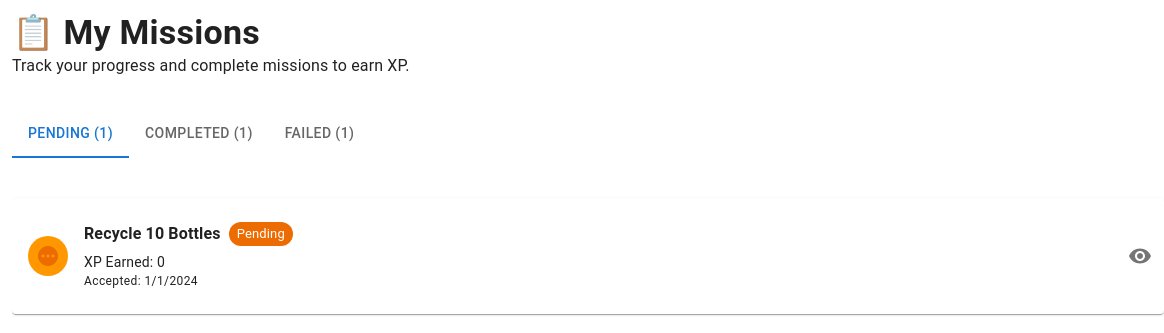
Test: MyMissions › switches to Completed tab
Expected: the heading "Recycle 10 Bottles" is shown, [84,220,221,248]
Click the tab "Completed (1)".
click(199, 134)  # box [129,110,269,158]
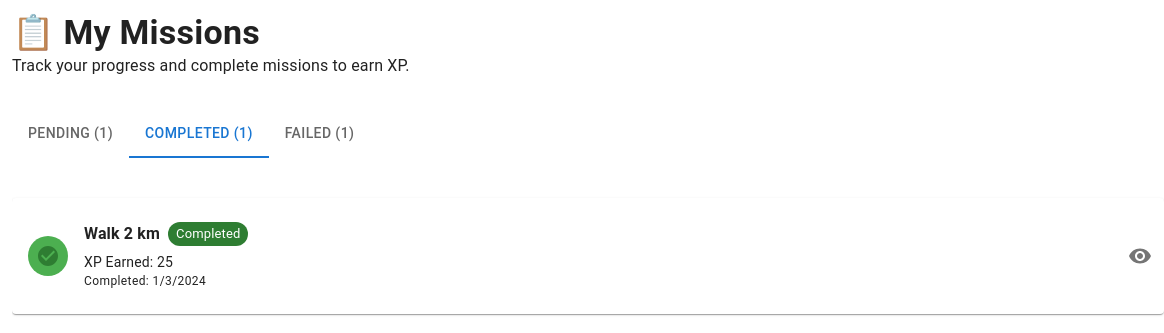
Now the heading "Walk 2 km" is shown, box [84,220,160,248]
Now the heading "Recycle 10 Bottles" is gone
